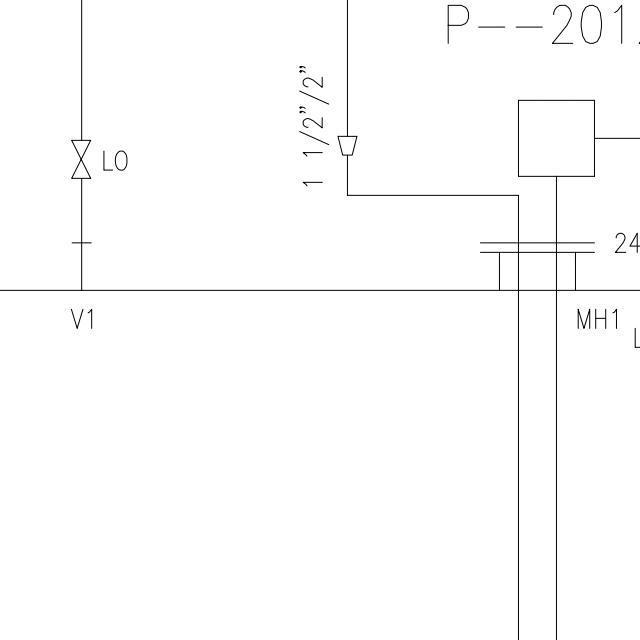GV: (68, 135, 94, 187)
SP: (332, 130, 360, 159)
